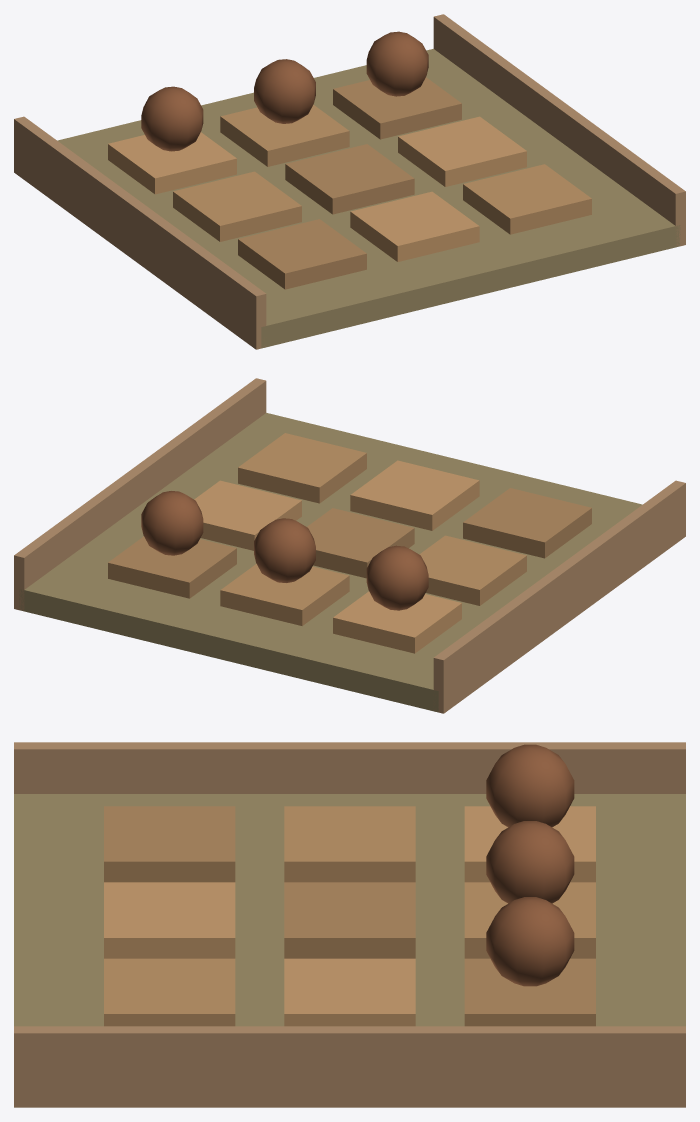
File: imp_yao_yuan.glb
3 renders of one model, top to bottom at view 1: azimuth 30°, elevation 25°; view 2: azimuth 150°, elevation 25°; view 3: azimuth 270°, elevation 25°, orthographic. The views are drawn at different scales.
Parts seen in each view (by area): view 1: _MeshInstance3D_195, _MeshInstance3D_208, _MeshInstance3D_209, _MeshInstance3D_200, _MeshInstance3D_203, _MeshInstance3D_202, _MeshInstance3D_204, _MeshInstance3D_199, _MeshInstance3D_201, _MeshInstance3D_197, _MeshInstance3D_196, _MeshInstance3D_198 (+3 smaller); view 2: _MeshInstance3D_195, _MeshInstance3D_208, _MeshInstance3D_209, _MeshInstance3D_203, _MeshInstance3D_202, _MeshInstance3D_204, _MeshInstance3D_199, _MeshInstance3D_197, _MeshInstance3D_198, _MeshInstance3D_196, _MeshInstance3D_200, _MeshInstance3D_201 (+3 smaller); view 3: _MeshInstance3D_195, _MeshInstance3D_209, _MeshInstance3D_208, _MeshInstance3D_199, _MeshInstance3D_200, _MeshInstance3D_203, _MeshInstance3D_202, _MeshInstance3D_201, _MeshInstance3D_204, _MeshInstance3D_198, _MeshInstance3D_207, _MeshInstance3D_205 (+3 smaller).
Boxes of the visible parts, x1,y1,x2,y2 form: _MeshInstance3D_195: (57,49,680,348); _MeshInstance3D_208: (14,116,266,349); _MeshInstance3D_209: (433,14,685,246); _MeshInstance3D_200: (285,144,414,214); _MeshInstance3D_203: (350,191,479,261); _MeshInstance3D_202: (238,219,366,289); _MeshInstance3D_204: (463,164,591,234); _MeshInstance3D_199: (173,171,301,241); _MeshInstance3D_201: (398,116,526,186); _MeshInstance3D_197: (220,105,349,166); _MeshInstance3D_196: (108,132,236,194); _MeshInstance3D_198: (333,77,461,139); _MeshInstance3D_195: (19,413,642,712); _MeshInstance3D_208: (433,480,685,713); _MeshInstance3D_209: (14,378,266,611); _MeshInstance3D_203: (350,460,479,530); _MeshInstance3D_202: (463,488,591,558); _MeshInstance3D_204: (238,433,366,503); _MeshInstance3D_199: (419,535,526,605); _MeshInstance3D_197: (220,564,349,625); _MeshInstance3D_198: (108,536,236,598); _MeshInstance3D_196: (333,591,461,653); _MeshInstance3D_200: (307,508,414,578); _MeshInstance3D_201: (194,480,301,550); _MeshInstance3D_195: (14,794,685,1026); _MeshInstance3D_209: (14,1026,685,1107); _MeshInstance3D_208: (14,742,685,793); _MeshInstance3D_199: (284,806,415,882); _MeshInstance3D_200: (284,882,415,958); _MeshInstance3D_203: (104,882,235,958); _MeshInstance3D_202: (104,806,235,882); _MeshInstance3D_201: (284,958,415,1026); _MeshInstance3D_204: (104,958,235,1026); _MeshInstance3D_198: (464,958,595,1026); _MeshInstance3D_207: (486,897,574,986); _MeshInstance3D_205: (486,744,574,827).
Size of the model in its own units: 0.84 by 0.185 by 0.82.
